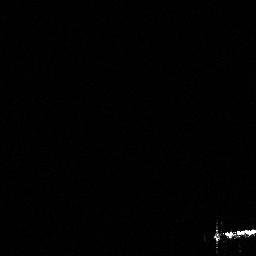ship: (208, 220, 256, 252)
